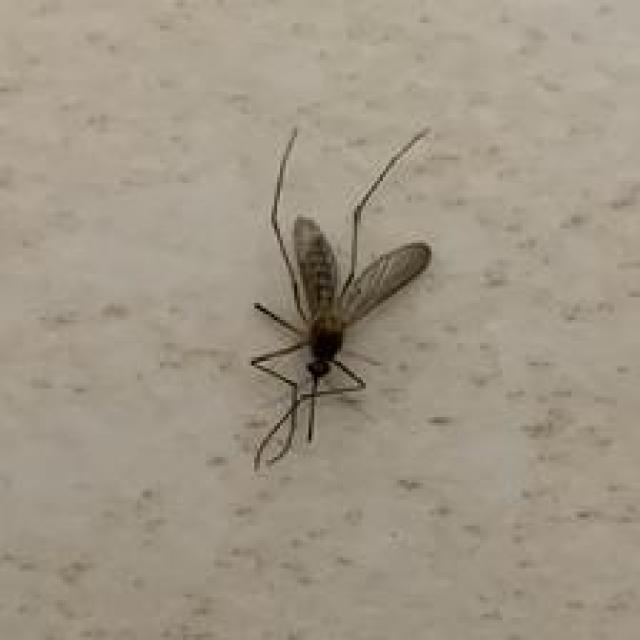Culex: (247, 123, 433, 471)
